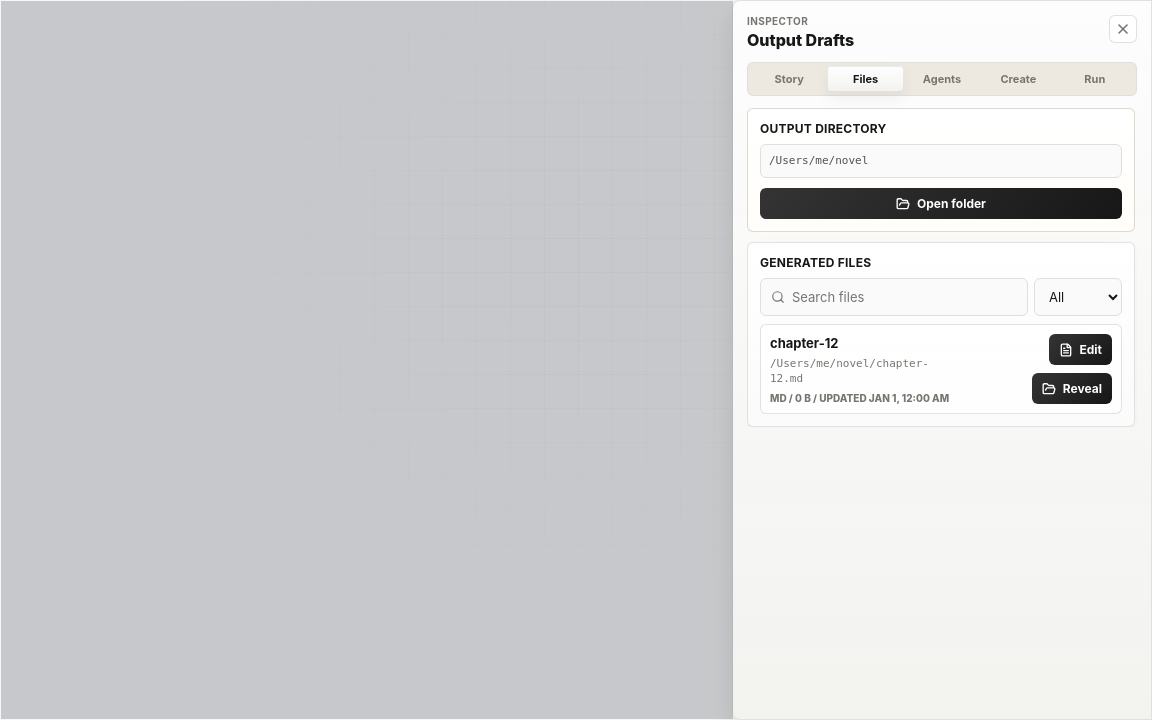
InspectorPanel › surfaces save failures in the editor and toast rail
This screenshot has width=1152, height=720.
Click the button with aria-label "Open chapter-12 in editor" at [1080, 350], box x1=1048 y1=334 x2=1112 y2=365
(page scrolled)
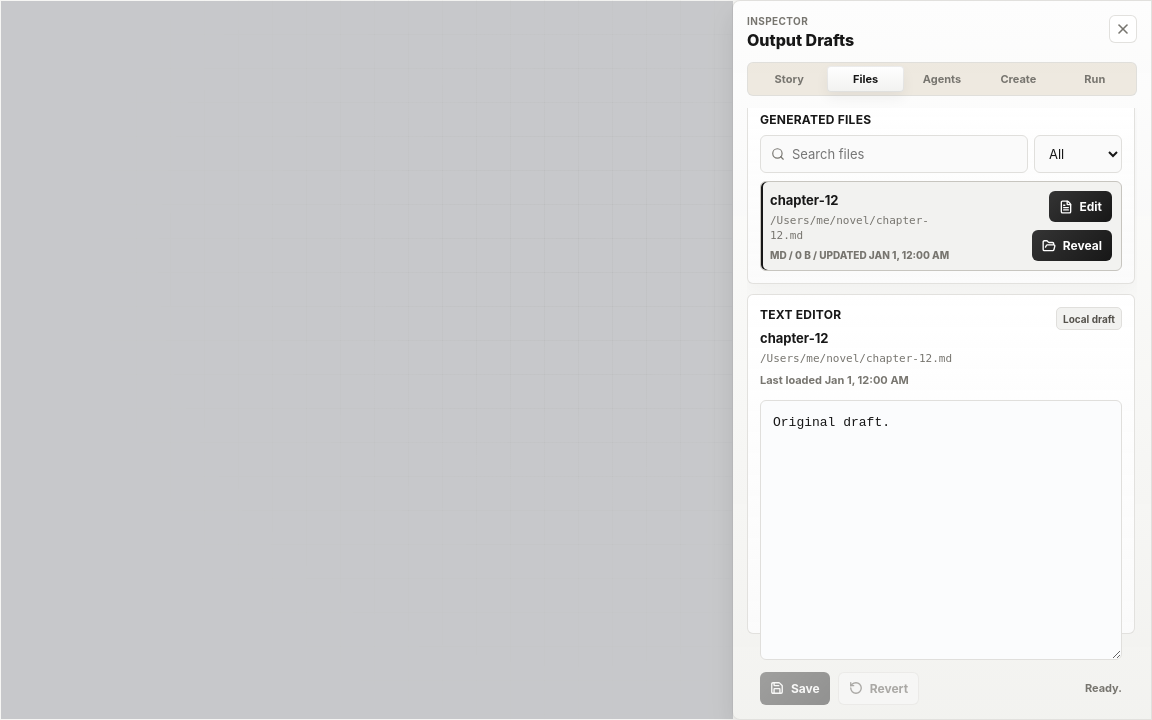
Expected: the text box named "Edit chapter-12" holds "Original draft."
Replace the text in the text box named "Edit chapter-12" with "Changed draft." at [941, 530], box x1=760 y1=400 x2=1122 y2=660
(page scrolled)
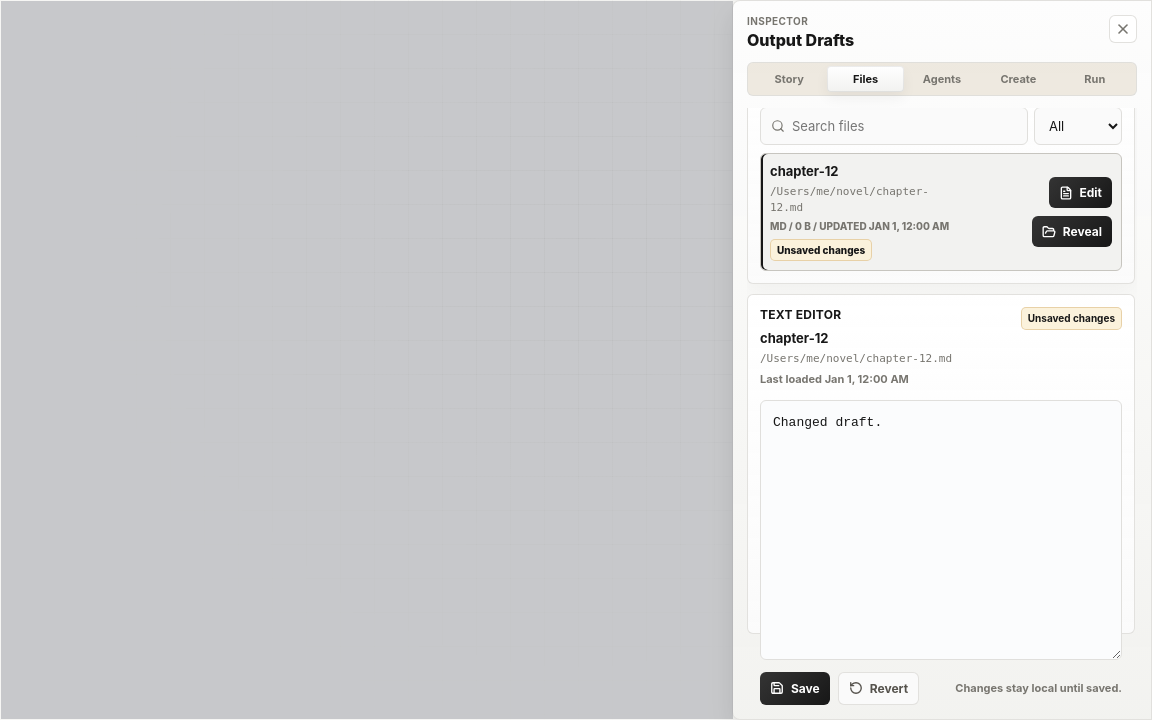
Click the button with aria-label "Save chapter-12" at [795, 688], box x1=760 y1=672 x2=830 y2=705
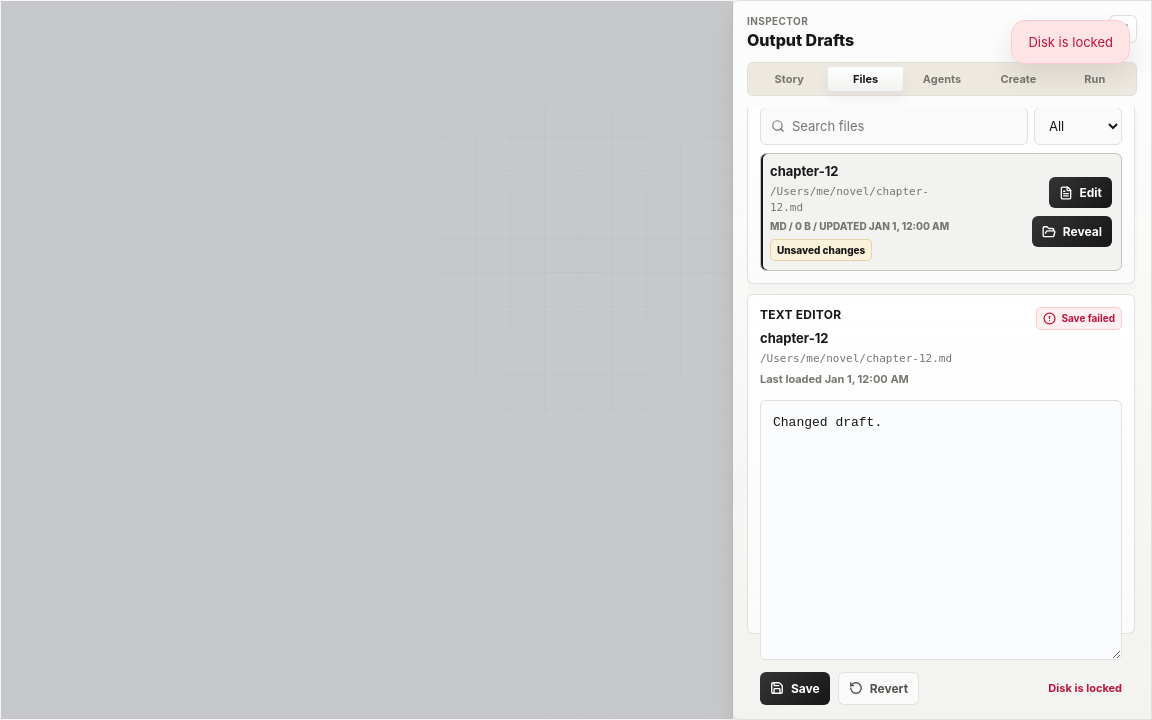
Expected: the text "Disk is locked" is shown 2 times, x1=1048 y1=681 x2=1122 y2=695; x1=1011 y1=20 x2=1130 y2=64
